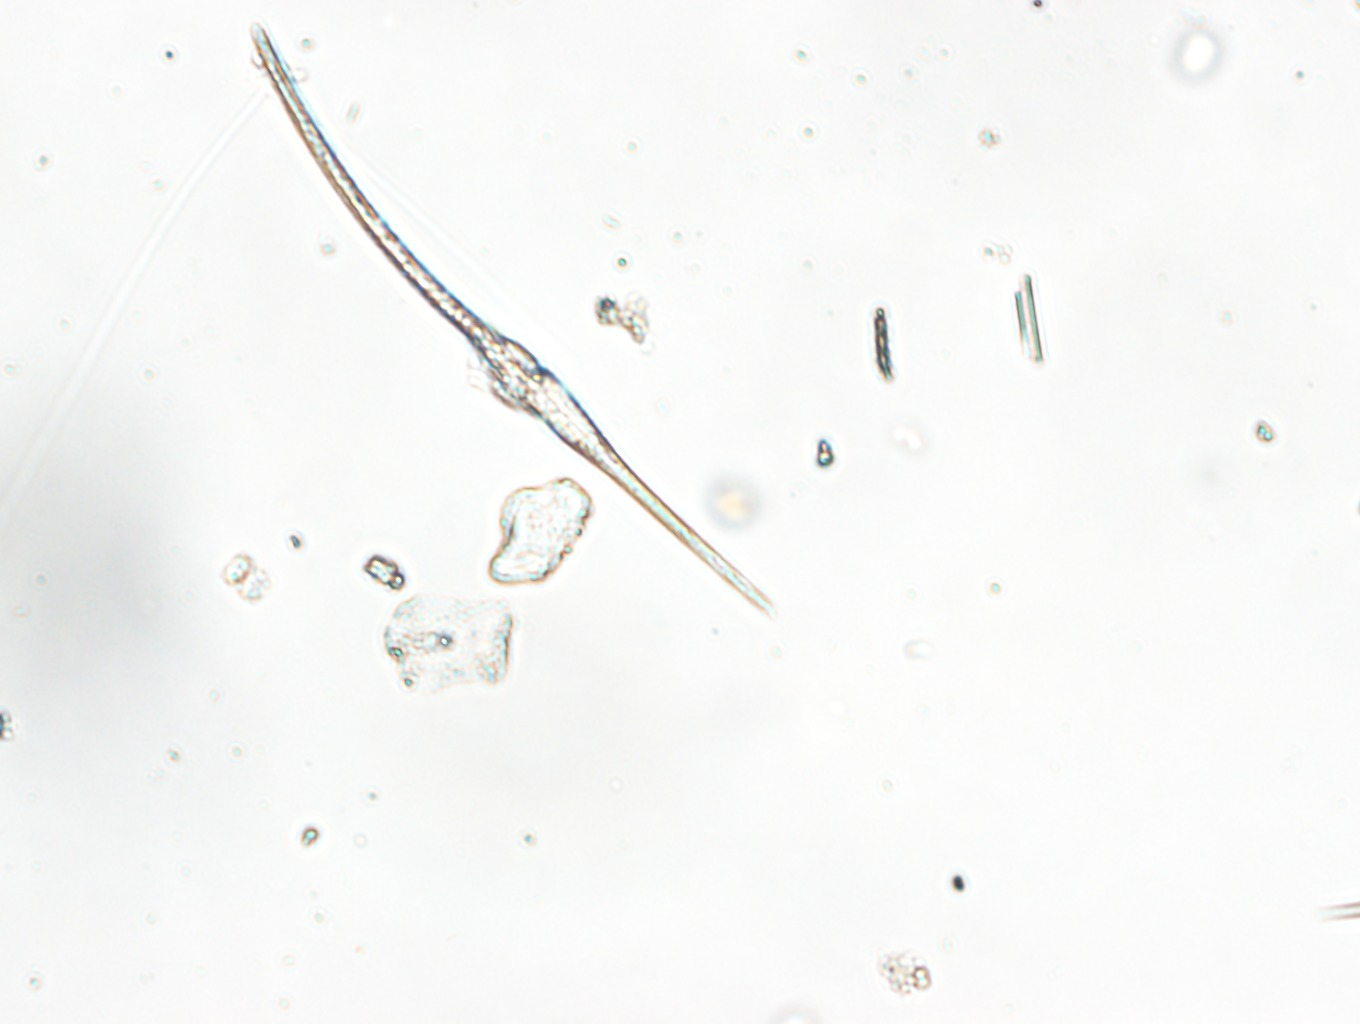ceratium fusus: (250, 23, 781, 623)
